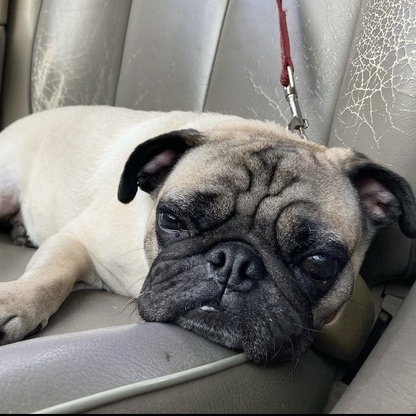Pug: (1, 93, 416, 374)
